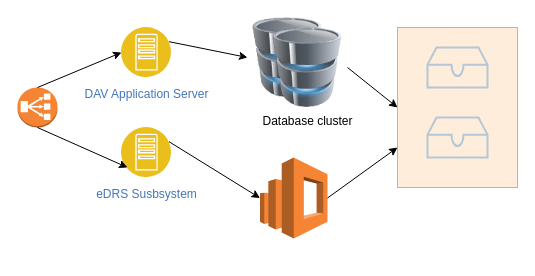
This 535x276 diagram has some shape labels left out. Each missing label, with the centre of its shape:
"Solr/ElasticSearch" goes at point (293, 197).
"Storage 100+ TB" goes at point (457, 107).
